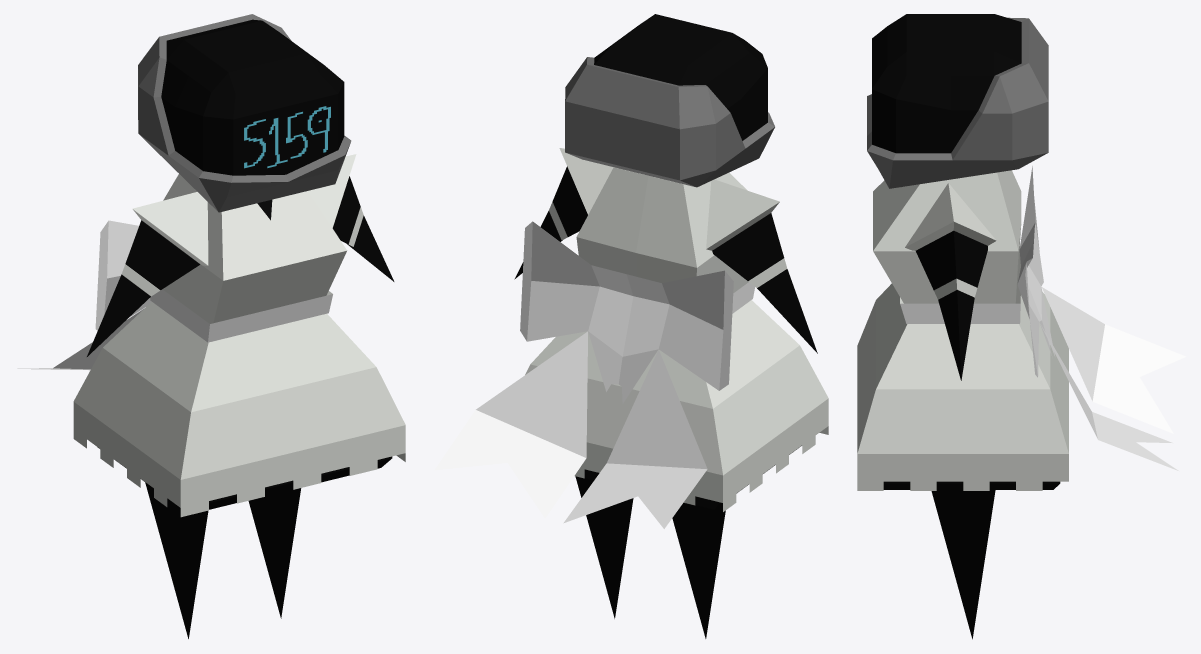
The model's file is maidenclass.gltf.
The picture shows the model from 3 angles, left to right: view 1: azimuth 30°, elevation 25°; view 2: azimuth 150°, elevation 25°; view 3: azimuth 270°, elevation 25°; orthographic projection.
Visible parts, largest first — view 1: Body, Obedience Unit, Arm, Leg 1, Leg 2, Bow, Arm.001, screen; view 2: Bow, Body, Obedience Unit, Arm, Leg 1, Arm.001, Leg 2; view 3: Body, Obedience Unit, Bow, Arm.001, Leg 2.
Boxes of the visible parts, left/top/right/bottom form: Body: left=73, top=174, right=405, bottom=517; Obedience Unit: left=138, top=14, right=351, bottom=212; Arm: left=87, top=192, right=208, bottom=356; Leg 1: left=145, top=482, right=208, bottom=638; Leg 2: left=248, top=488, right=301, bottom=618; Bow: left=17, top=220, right=151, bottom=370; Arm.001: left=308, top=154, right=394, bottom=281; screen: left=244, top=106, right=330, bottom=168; Bow: left=434, top=221, right=733, bottom=528; Body: left=525, top=167, right=828, bottom=511; Obedience Unit: left=565, top=14, right=774, bottom=187; Arm: left=706, top=179, right=817, bottom=353; Leg 1: left=672, top=502, right=725, bottom=638; Arm.001: left=514, top=148, right=613, bottom=279; Leg 2: left=575, top=476, right=633, bottom=618; Body: left=857, top=170, right=1068, bottom=490; Obedience Unit: left=867, top=14, right=1048, bottom=188; Bow: left=1017, top=166, right=1185, bottom=470; Arm.001: left=905, top=183, right=996, bottom=380; Leg 2: left=931, top=490, right=995, bottom=639.
Size of the model in its own units: 2.83 by 5.18 by 2.65.
Materials: 5 (1 with a texture image).
